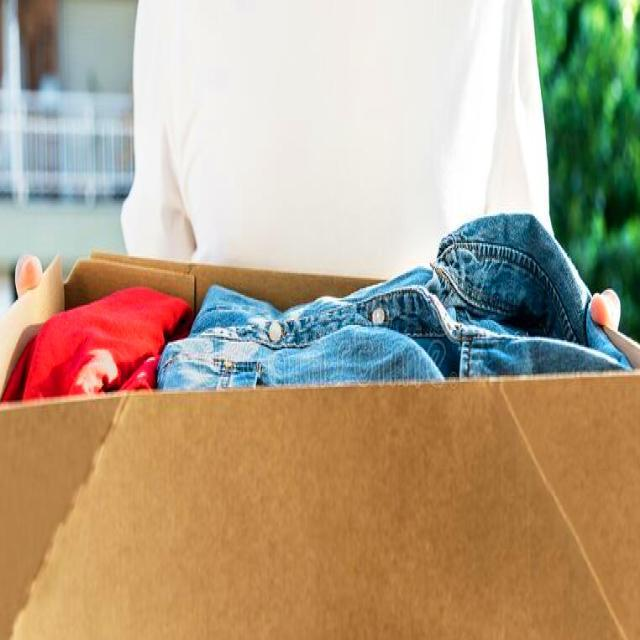clothes: (85, 264, 628, 388)
